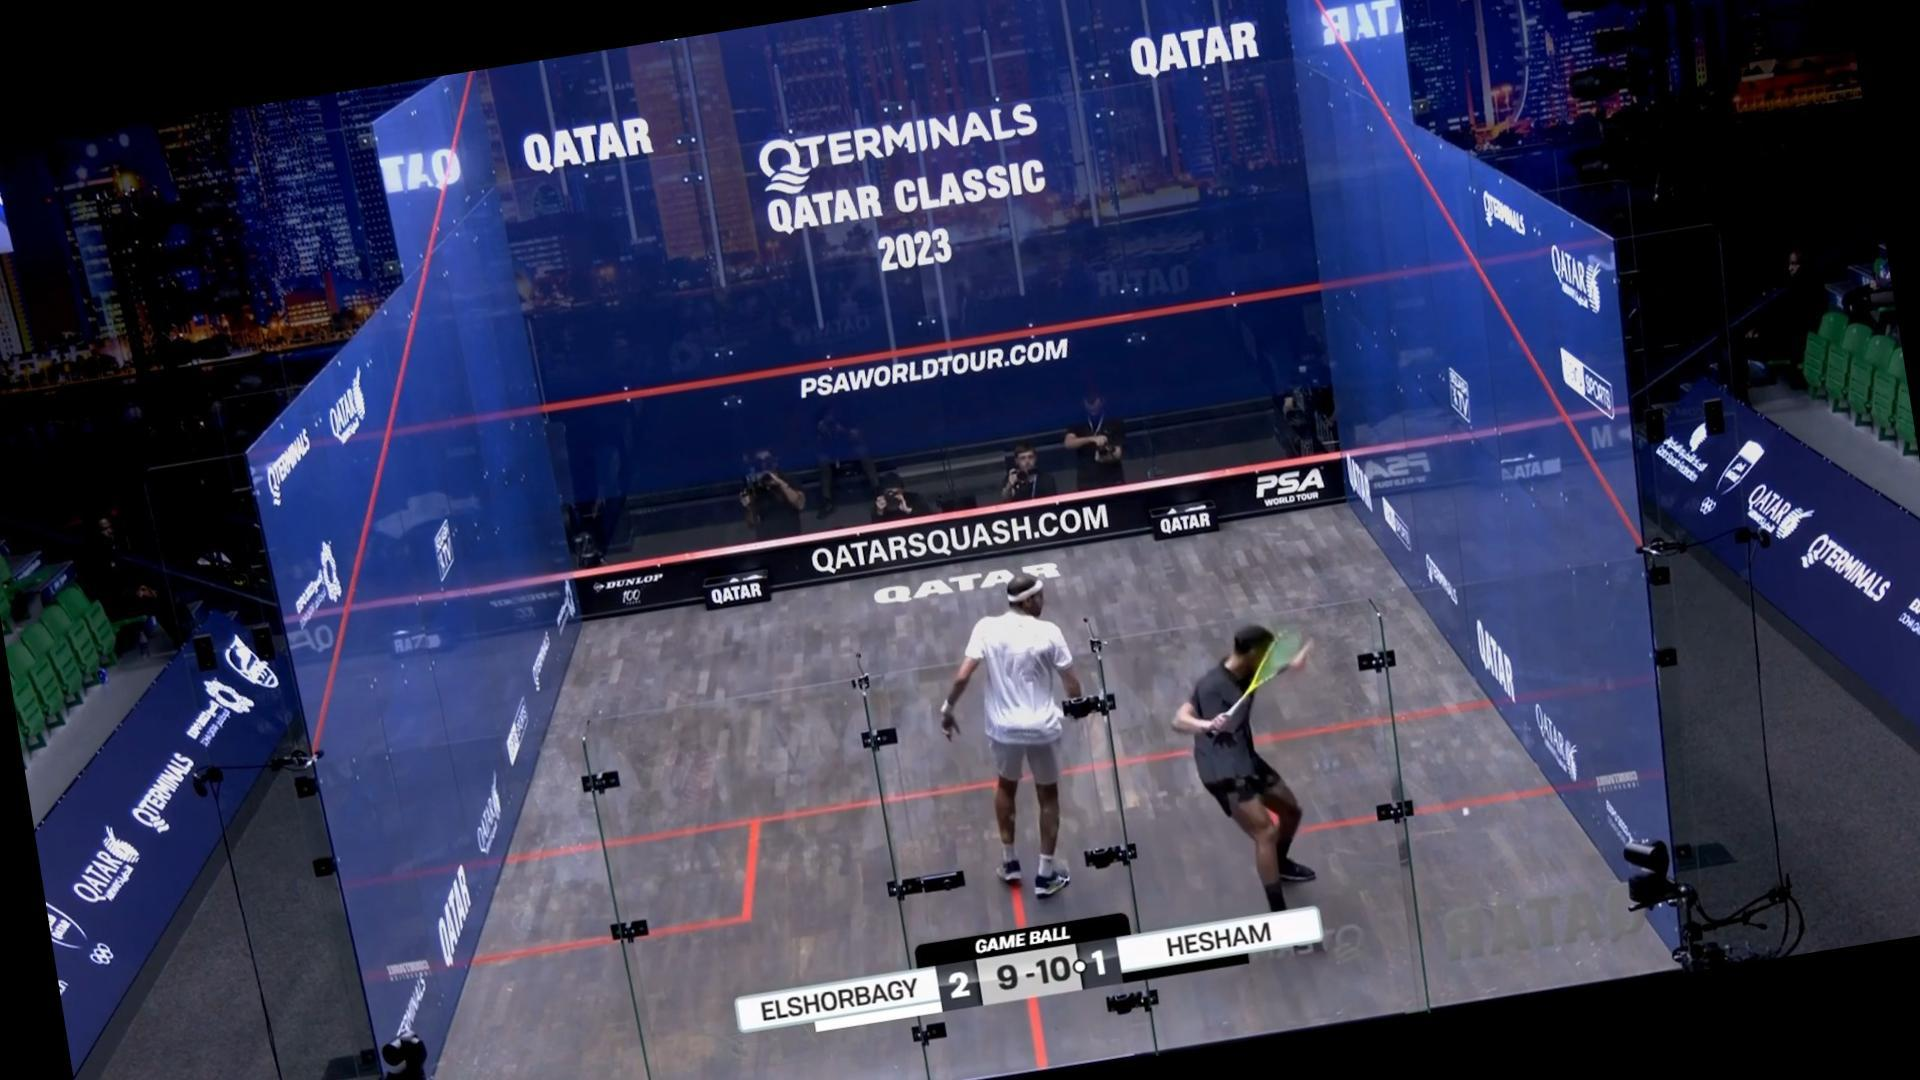Squash-Ball: (1451, 796, 1482, 829)
